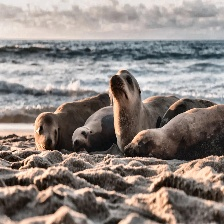seal: (124, 104, 224, 160), (72, 106, 116, 154)
